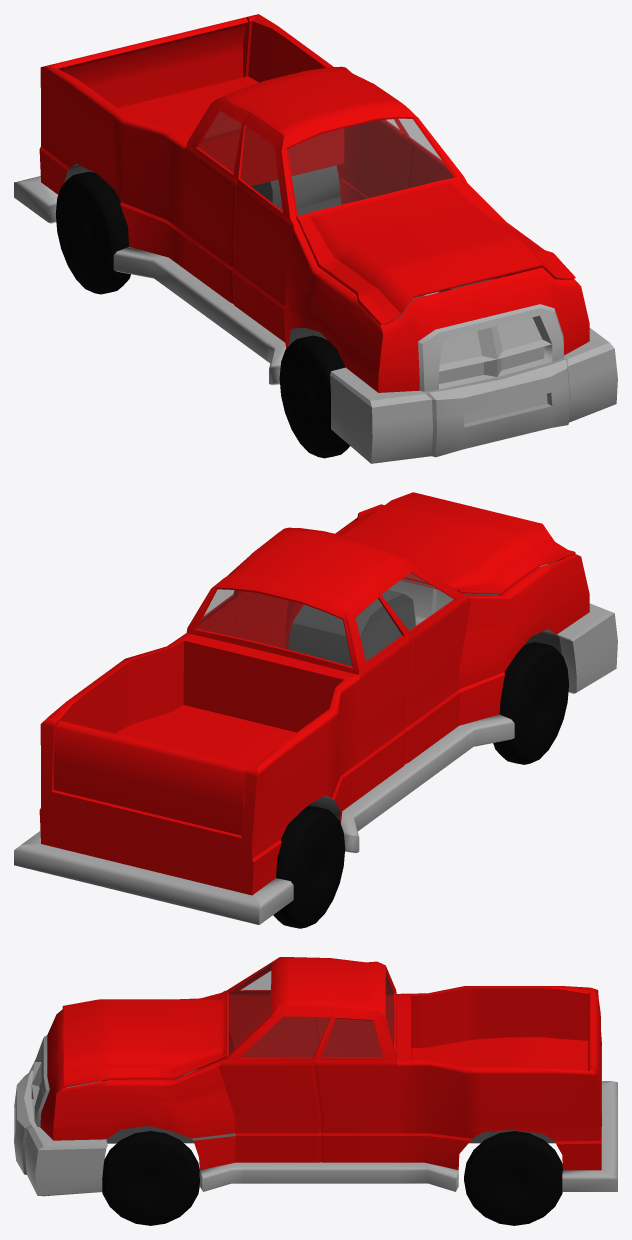
The model's file is truck.fbx.
3 renders of one model, top to bottom at view 1: azimuth 30°, elevation 25°; view 2: azimuth 150°, elevation 25°; view 3: azimuth 270°, elevation 25°, orthographic. The views are drawn at different scales.
Parts seen in each view (by area): view 1: Truck_Body, Hood, Front_Door_Right, Tailgate, Back_Door_Right, tire_4, tire_1, Back_Door_Left, Front_Door_Left; view 2: Truck_Body, Tailgate, Hood, Front_Door_Right, Back_Door_Right, tire_1, tire_4, Front_Door_Left, Back_Door_Left; view 3: Truck_Body, Front_Door_Left, Hood, Back_Door_Left, tire_3, tire_2, Front_Door_Right, Back_Door_Right, Tailgate.
Part boxes in pixels (bbox=[...]): Truck_Body: bbox=[14, 14, 617, 463]; Hood: bbox=[296, 176, 575, 325]; Front_Door_Right: bbox=[232, 113, 293, 342]; Tailgate: bbox=[57, 17, 247, 107]; Back_Door_Right: bbox=[183, 97, 250, 303]; tire_4: bbox=[55, 171, 130, 294]; tire_1: bbox=[279, 335, 349, 458]; Back_Door_Left: bbox=[359, 119, 411, 200]; Front_Door_Left: bbox=[373, 83, 453, 188]; Truck_Body: bbox=[14, 518, 617, 924]; Tailgate: bbox=[53, 720, 249, 835]; Hood: bbox=[338, 492, 575, 594]; Front_Door_Right: bbox=[373, 558, 471, 763]; Back_Door_Right: bbox=[345, 584, 411, 798]; tire_1: bbox=[493, 642, 568, 764]; tire_4: bbox=[273, 806, 345, 928]; Front_Door_Left: bbox=[234, 548, 288, 648]; Back_Door_Left: bbox=[197, 557, 247, 636]; Truck_Body: bbox=[14, 957, 617, 1196]; Front_Door_Left: bbox=[218, 1005, 333, 1162]; Hood: bbox=[62, 990, 226, 1087]; Back_Door_Left: bbox=[314, 1006, 398, 1162]; tire_3: bbox=[464, 1131, 562, 1225]; tire_2: bbox=[102, 1131, 199, 1225]; Front_Door_Right: bbox=[228, 957, 331, 1057]; Back_Door_Right: bbox=[317, 972, 394, 1057]; Tailgate: bbox=[588, 991, 600, 1105].
Size of the model in its own units: 4.49 by 4.47 by 11.78.
